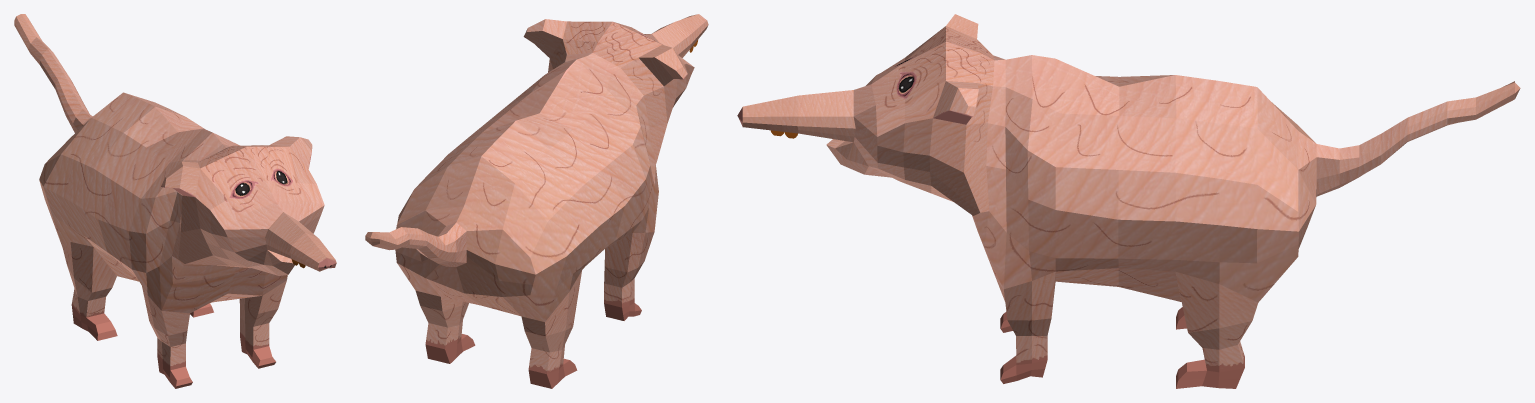
Rendered from TheCreature1Evolution_Obj.fbx.
3 views of the same model, side by side, from view 1: azimuth 30°, elevation 25°; view 2: azimuth 150°, elevation 25°; view 3: azimuth 270°, elevation 25° (orthographic). The views are drawn at different scales.
Parts seen in each view (by area): view 1: LittleGuy; view 2: LittleGuy; view 3: LittleGuy.
Part boxes in pixels (<box>): LittleGuy: <box>14,14,336,388</box>; LittleGuy: <box>365,14,708,388</box>; LittleGuy: <box>737,14,1520,388</box>.
Bounding box in the file's own units: 51.53 × 77.11 × 176.
Materials: 1 (1 with a texture image).
